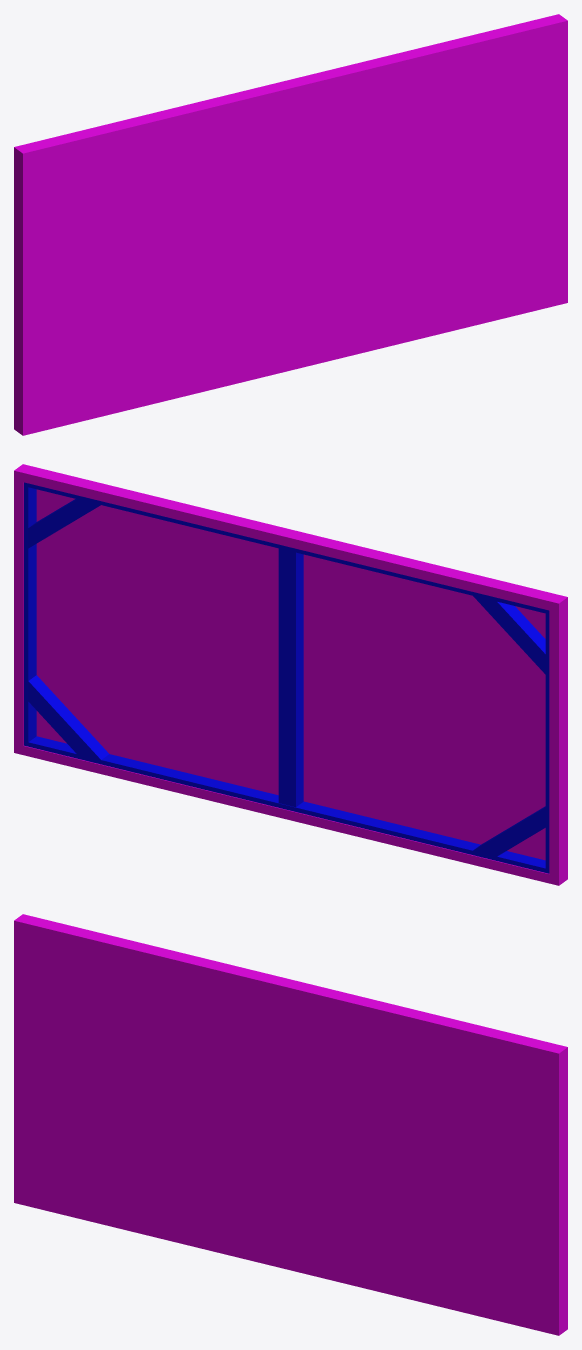
Rendered from cuadro_low.fbx.
3 renders of one model, top to bottom at view 1: azimuth 30°, elevation 25°; view 2: azimuth 150°, elevation 25°; view 3: azimuth 330°, elevation 25°, orthographic.
Parts seen in each view (by area): view 1: Canvas_low; view 2: Canvas_low, Madera_low; view 3: Canvas_low.
Part boxes in pixels (bbox=[...]): Canvas_low: bbox=[14, 14, 567, 435]; Canvas_low: bbox=[14, 464, 567, 885]; Madera_low: bbox=[24, 482, 549, 873]; Canvas_low: bbox=[14, 914, 567, 1335].
Bounding box in the file's own units: 123 × 60.67 × 3.5.
